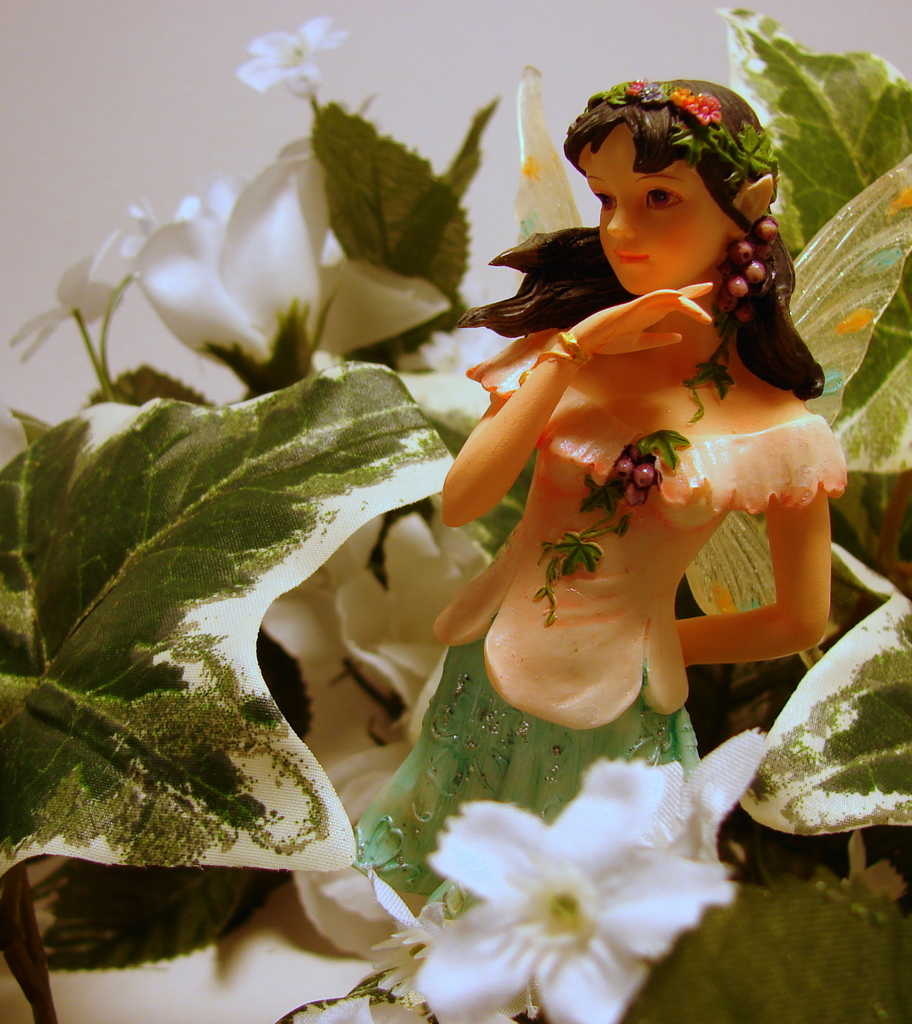face: (584, 120, 723, 302)
